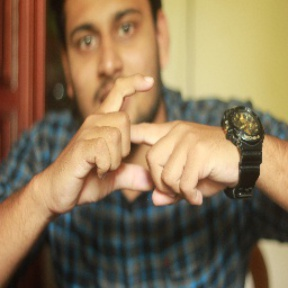E: (87, 69, 187, 198)
